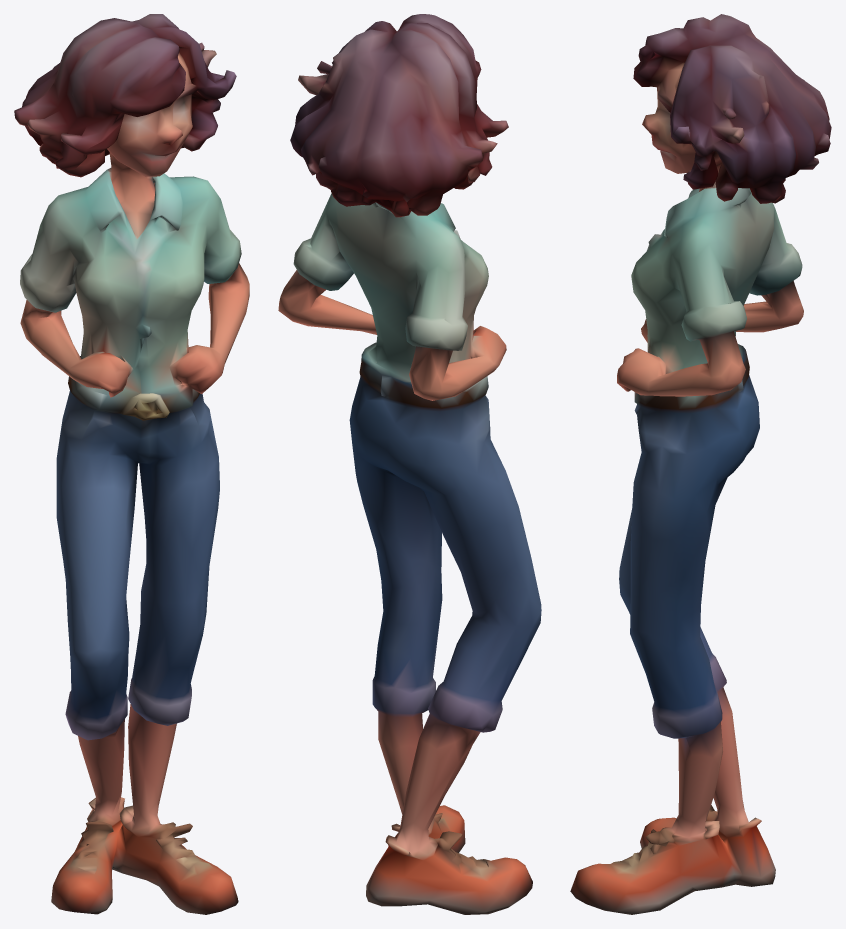
File: trellis_ana.glb
3 renders of one model, left to right at view 1: azimuth 30°, elevation 25°; view 2: azimuth 150°, elevation 25°; view 3: azimuth 270°, elevation 25°, orthographic.
Visible parts, largest first — view 1: Mesh_0; view 2: Mesh_0; view 3: Mesh_0.
Boxes of the visible parts, left/top/right/bottom form: Mesh_0: left=14, top=14, right=249, bottom=914; Mesh_0: left=278, top=14, right=541, bottom=914; Mesh_0: left=570, top=14, right=831, bottom=914.
Bounding box in the file's own units: 0.4542 × 1.72 × 0.4692.
